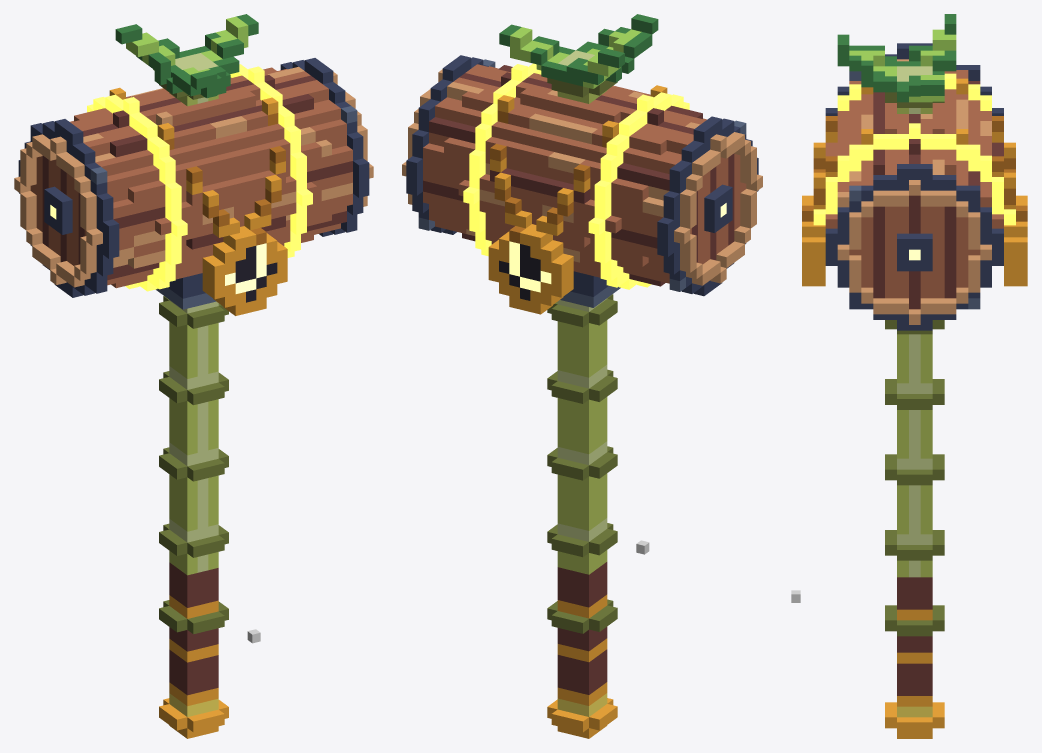
File: BarrelHammer.fbx
3 renders of one model, left to right at view 1: azimuth 30°, elevation 25°; view 2: azimuth 150°, elevation 25°; view 3: azimuth 270°, elevation 25°, orthographic.
Parts seen in each view (by area): view 1: wood, wood_l, gold, iron, gglow, bamboo, bamboo_d, wood_d, bamboo_l, bark, leaf_d, gold_d (+4 smaller); view 2: wood, wood_l, gold, bamboo, iron, gglow, bamboo_d, wood_d, bark, leaf_d, bamboo_l, leaf_l (+5 smaller); view 3: wood, iron, gold, wood_l, bamboo_d, gglow, wood_d, bamboo, leaf_d, bamboo_l, bark, gold_d (+3 smaller).
Part boxes in pixels (x1,y1,x2,y2): wood: (30,67,352,288); wood_l: (14,66,373,287); gold: (109,87,287,738); iron: (18,58,369,298); gglow: (87,64,312,291); bamboo: (169,93,218,575); bamboo_d: (159,84,228,634); wood_d: (42,75,352,280); bamboo_l: (169,53,218,572); bark: (169,562,218,695); leaf_d: (115,14,258,98); gold_d: (164,113,285,245); wood: (423,64,746,283); wood_l: (402,69,762,285); gold: (488,85,667,738); bamboo: (557,90,607,574); iron: (406,55,758,296); gglow: (463,63,689,289); bamboo_d: (547,78,617,633); wood_d: (423,65,734,286); bark: (557,562,607,694); leaf_d: (499,14,658,86); bamboo_l: (557,50,607,541); leaf_l: (510,27,641,88); wood: (825,70,1003,298); iron: (825,43,1003,330); gold: (802,78,1027,738); wood_l: (837,59,991,324); bamboo_d: (885,92,944,636); gglow: (813,73,1015,225); wood_d: (873,81,1003,309); bamboo: (897,108,932,577); leaf_d: (837,14,956,102); bamboo_l: (897,66,932,577); bark: (897,577,932,695); gold_d: (802,116,1027,221).
Size of the model in its own units: 270 by 640 by 199.
